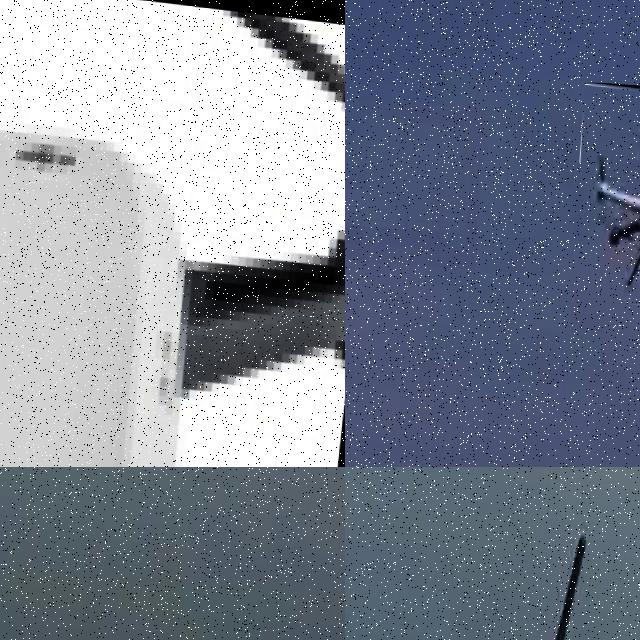0: (570, 82, 640, 311)
drone: (0, 0, 345, 467)
